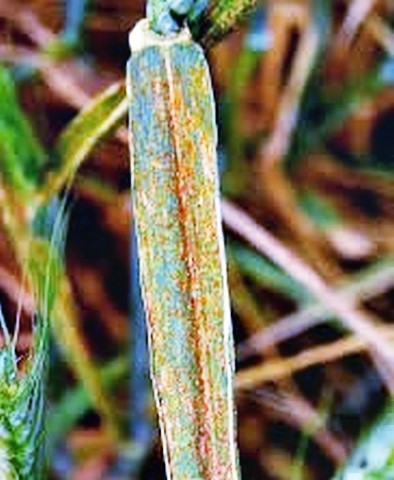Leaf Rust: (123, 83, 246, 464)
